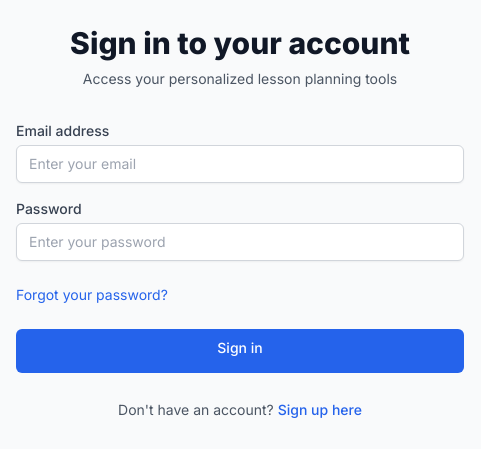
Test: LoginPage › validates password requirement
Type "test@example.com" into the field labelled "Email address" at coordinates (240, 164), box [16, 145, 464, 183]
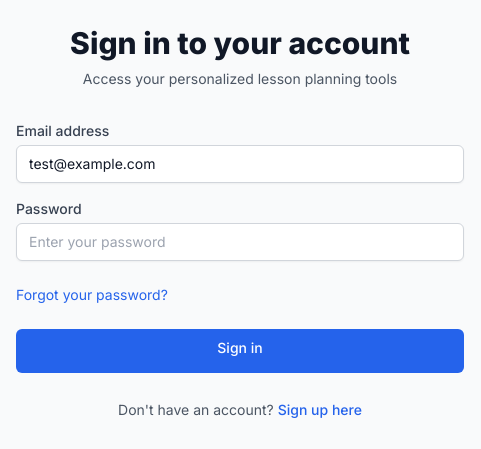
Submit the form named "sign in to your account"
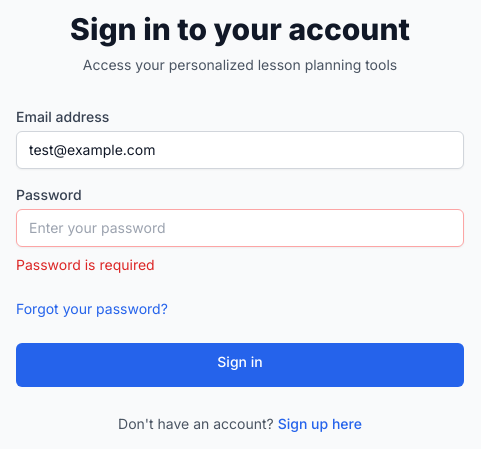
Result: the text "Password is required" is shown at [16, 256, 155, 273]
